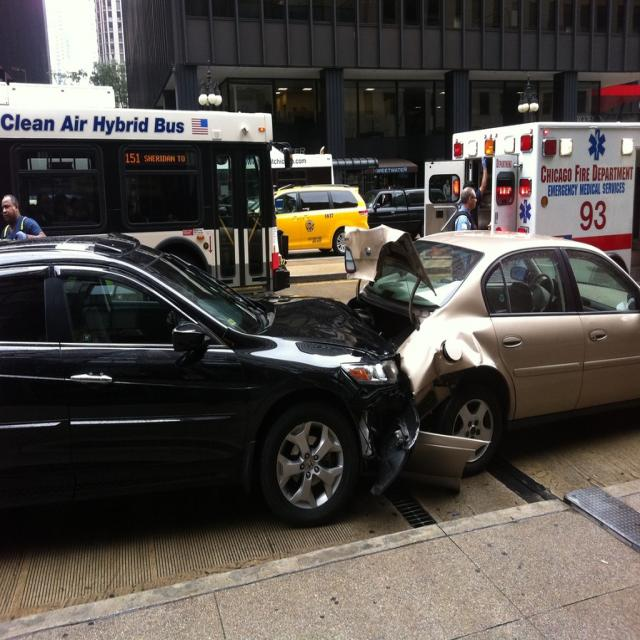other: (0, 235, 422, 521), (365, 232, 632, 476), (254, 182, 368, 251), (371, 189, 442, 231)
